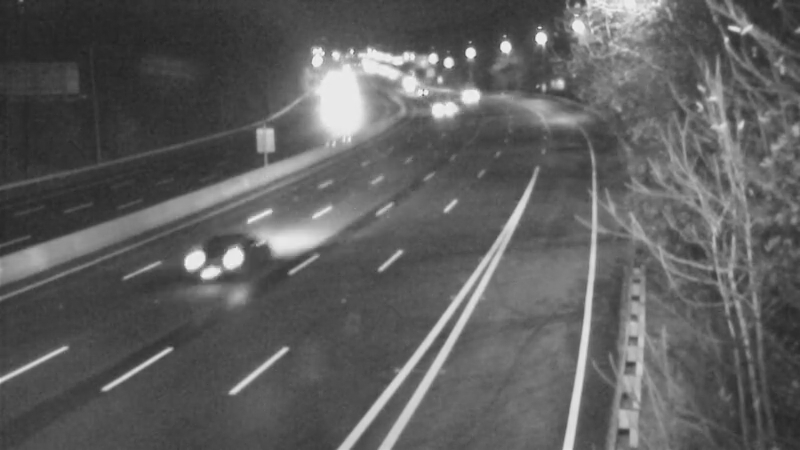vehicle: (183, 227, 263, 307), (404, 68, 454, 118), (444, 70, 494, 120), (415, 81, 465, 131), (304, 85, 354, 135)
